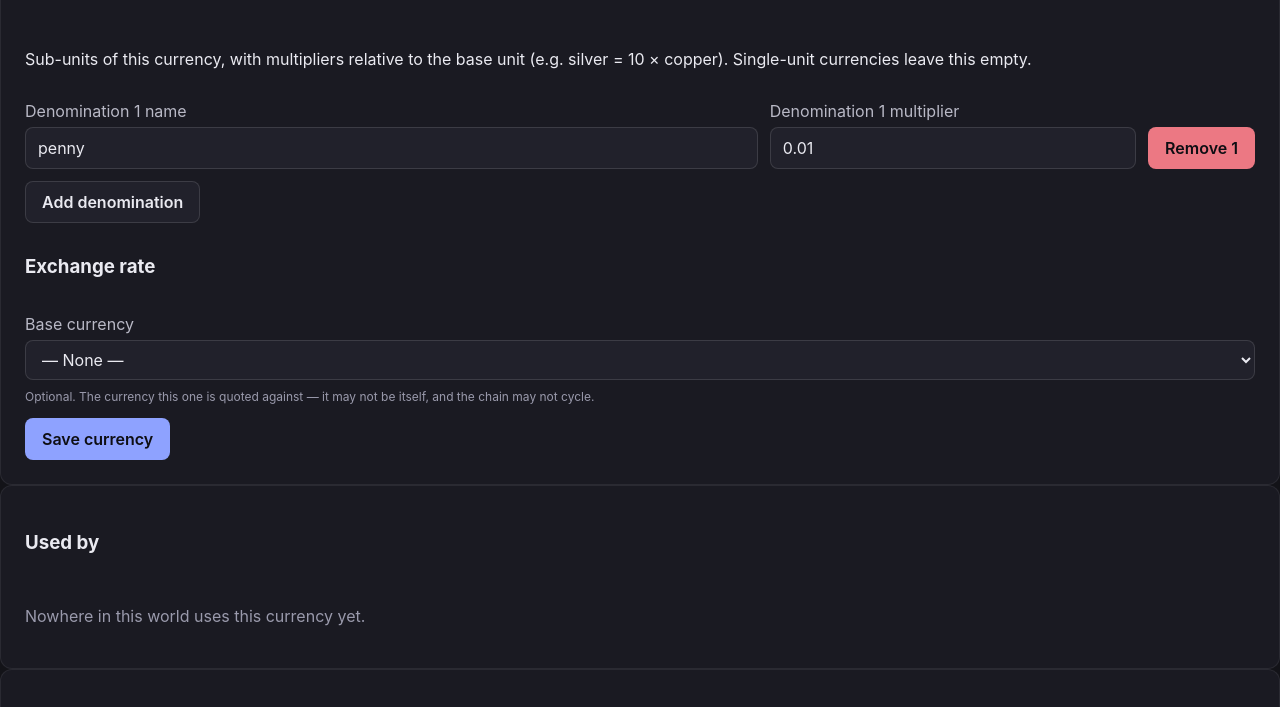
currency panel › surfaces the server’s refusal of a cycle rather than restating the rule
(page scrolled)
Select "Mark" in the dropdown labelled "Base currency" at (640, 360), box [25,340,1255,380]
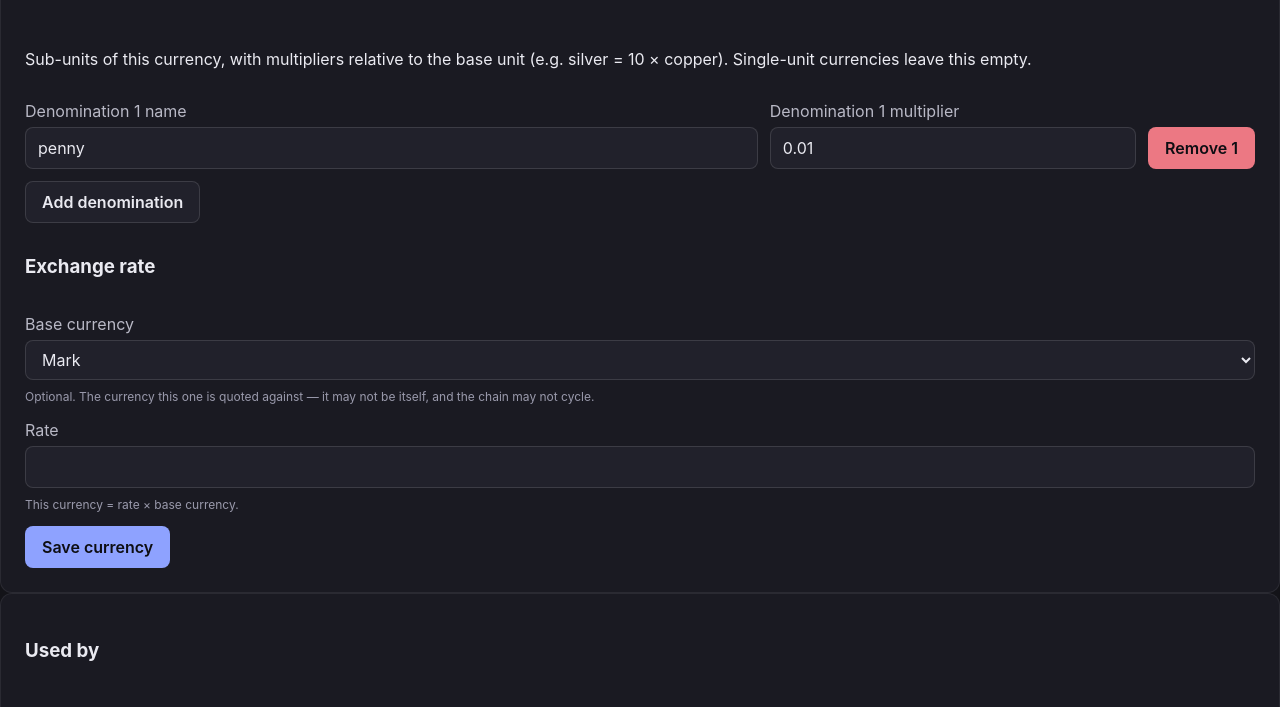
Click the button "Save currency" at (98, 547), box [25,526,170,568]
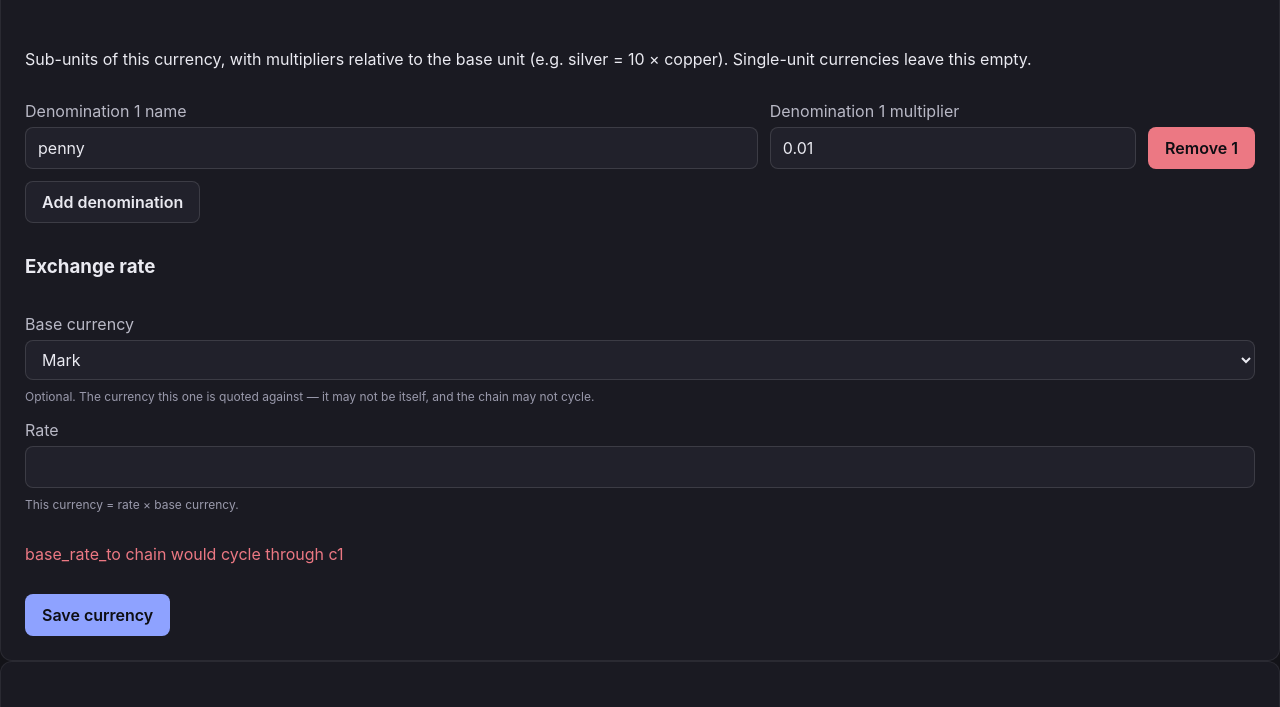
Expected: the message shows "cycle", [25,544,344,564]
